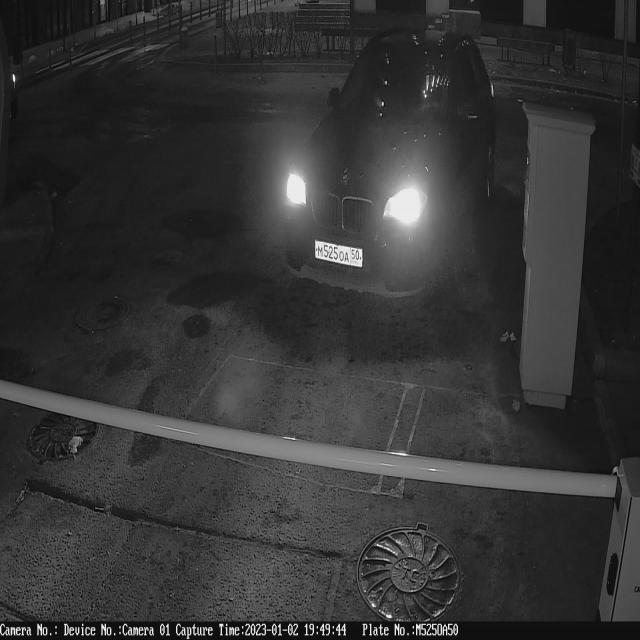car-plate-numbers: (313, 238, 366, 271)
